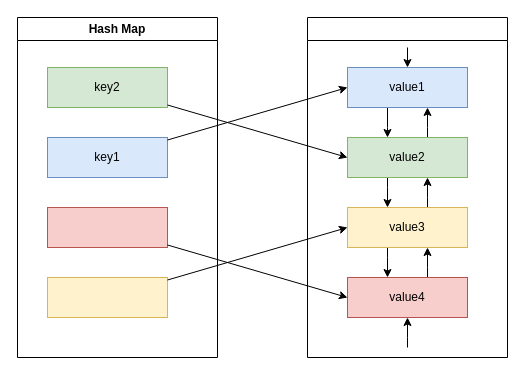
This 525x375 diagram has some shape labels left out. Each missing label, with the box of its shape:
key3: (46, 276, 168, 318)
key4: (46, 206, 168, 248)
Linked List: (306, 16, 508, 358)
